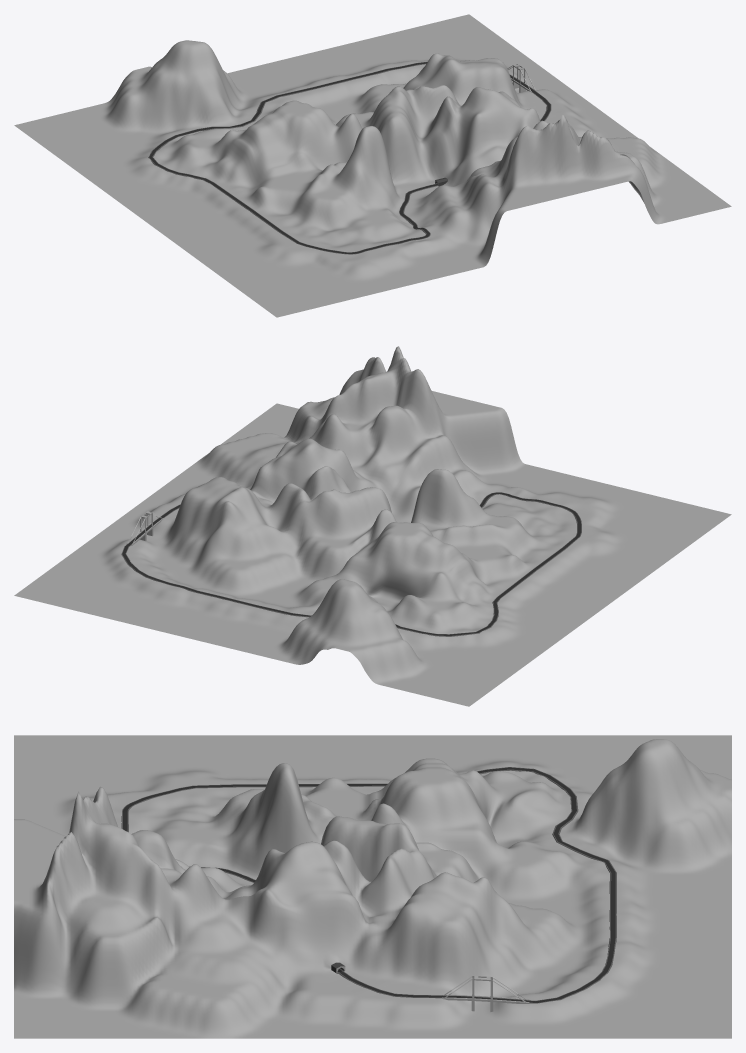
The model's file is cutscene_2.fbx.
3 views of the same model, one above another, from view 1: azimuth 30°, elevation 25°; view 2: azimuth 150°, elevation 25°; view 3: azimuth 270°, elevation 25° (orthographic). The views are drawn at different scales.
Parts seen in each view (by area): view 1: mesh_terreno, estrada, estrada_bake; view 2: mesh_terreno, estrada, estrada_bake; view 3: mesh_terreno, estrada, estrada_bake, Ponte.
Boxes of the visible parts, box(x1,y1,x2,y2) form: mesh_terreno: box(14, 14, 731, 317); estrada: box(148, 61, 551, 254); estrada_bake: box(151, 62, 548, 253); mesh_terreno: box(14, 346, 731, 706); estrada: box(121, 492, 581, 636); estrada_bake: box(124, 493, 579, 635); mesh_terreno: box(14, 735, 731, 1038); estrada: box(121, 767, 616, 1003); estrada_bake: box(125, 768, 613, 1001); Ponte: box(442, 976, 529, 1011).
Bounding box in the file's own units: 1000 × 239 × 1000.
